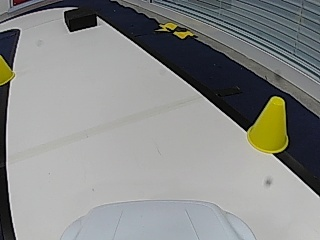block: (63, 7, 97, 32)
cone: (248, 96, 289, 154)
